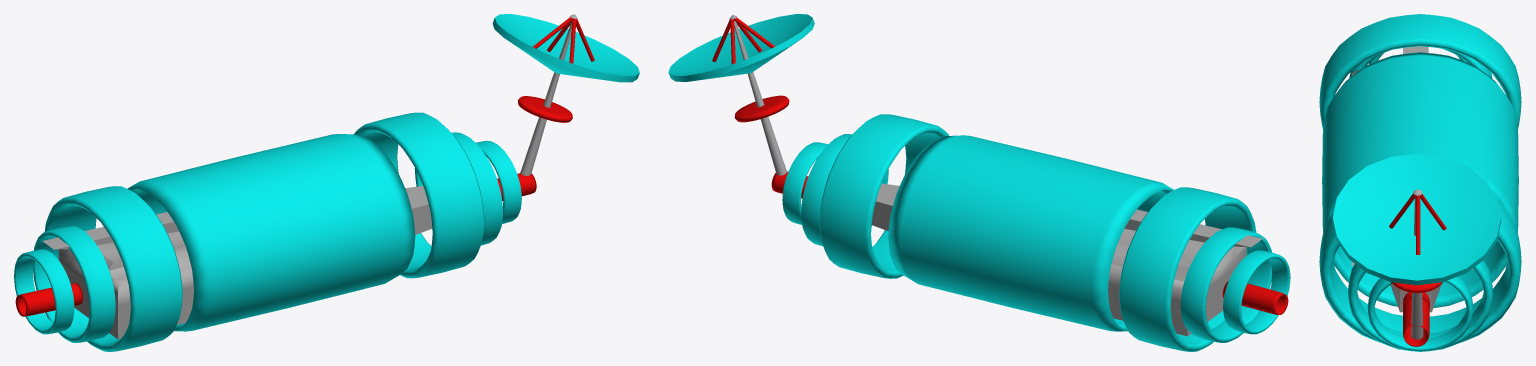
The model's file is S_Body.fbx.
3 views of the same model, side by side, from view 1: azimuth 30°, elevation 25°; view 2: azimuth 150°, elevation 25°; view 3: azimuth 270°, elevation 25° (orthographic). The views are drawn at different scales.
Visible parts, largest first — view 1: Spaceship_body_transform1; view 2: Spaceship_body_transform1; view 3: Spaceship_body_transform1.
Boxes of the visible parts, bbox=[...] form: Spaceship_body_transform1: bbox=[14, 14, 639, 351]; Spaceship_body_transform1: bbox=[668, 14, 1290, 351]; Spaceship_body_transform1: bbox=[1319, 14, 1521, 351].
Bounding box in the file's own units: 23.35 × 7.87 × 6.2.
